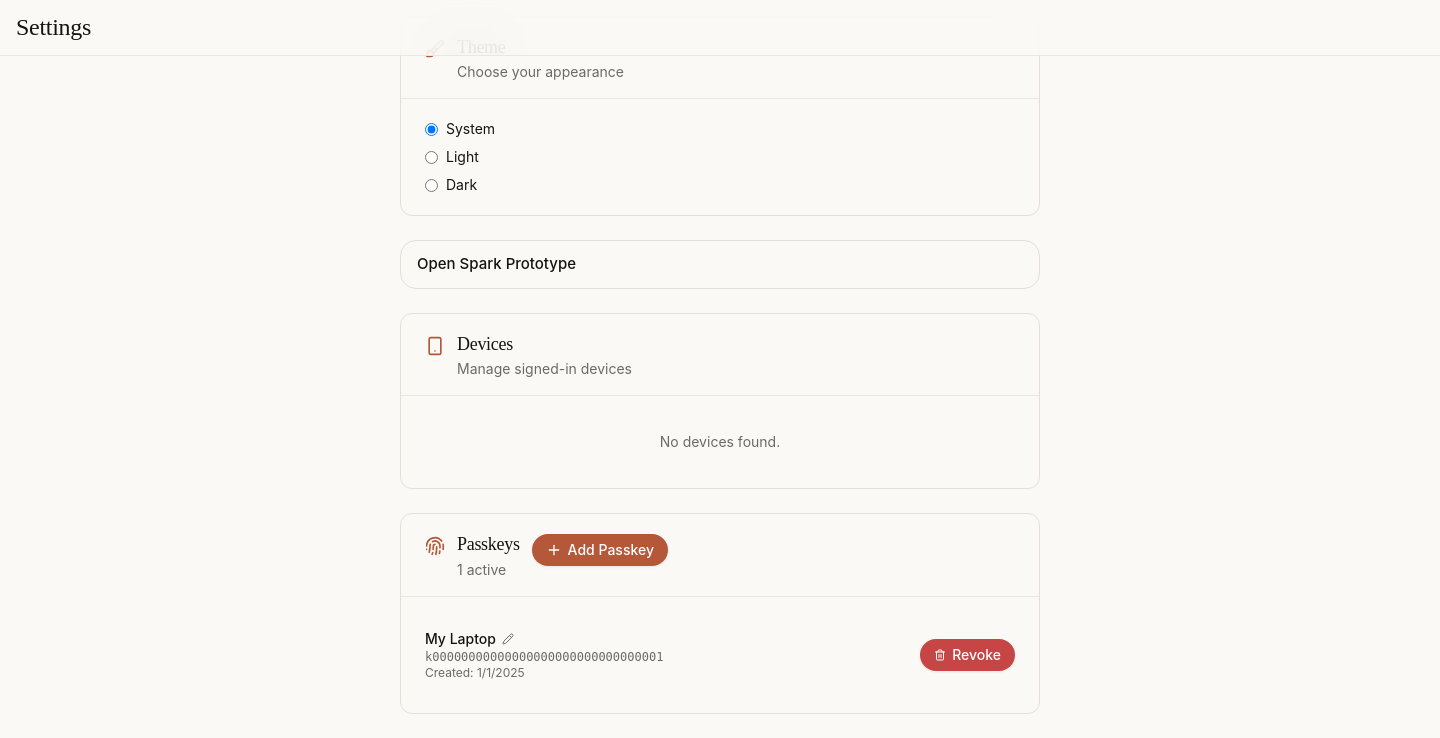
Test: Settings – passkey rename › shows API error on failed rename
(page scrolled)
Check: the text "My Laptop" is shown, box [425, 629, 496, 649]
Click the button with test id "passkey-edit-btn". click: (508, 639)
box: [500, 631, 516, 647]
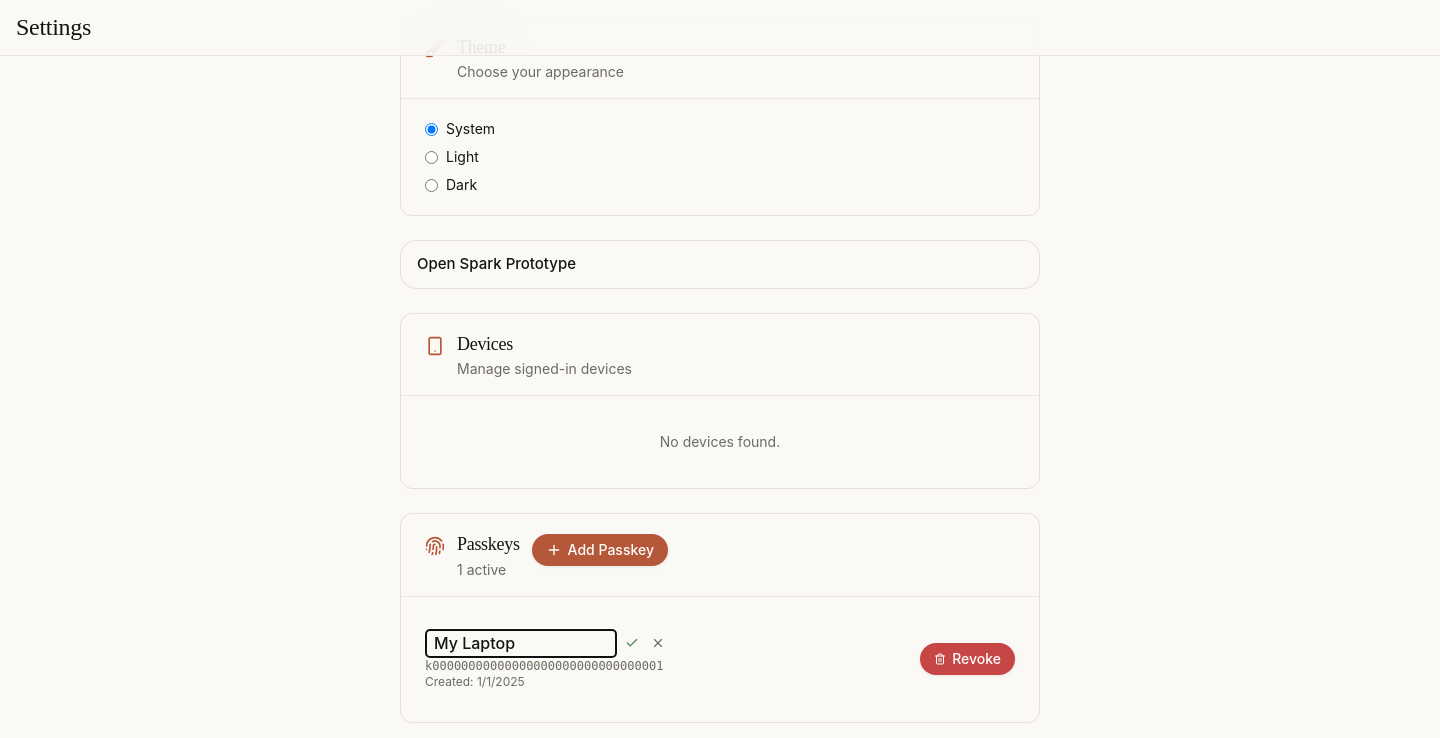
Click the button with test id "passkey-name-save". click: (632, 643)
box: [621, 632, 643, 654]
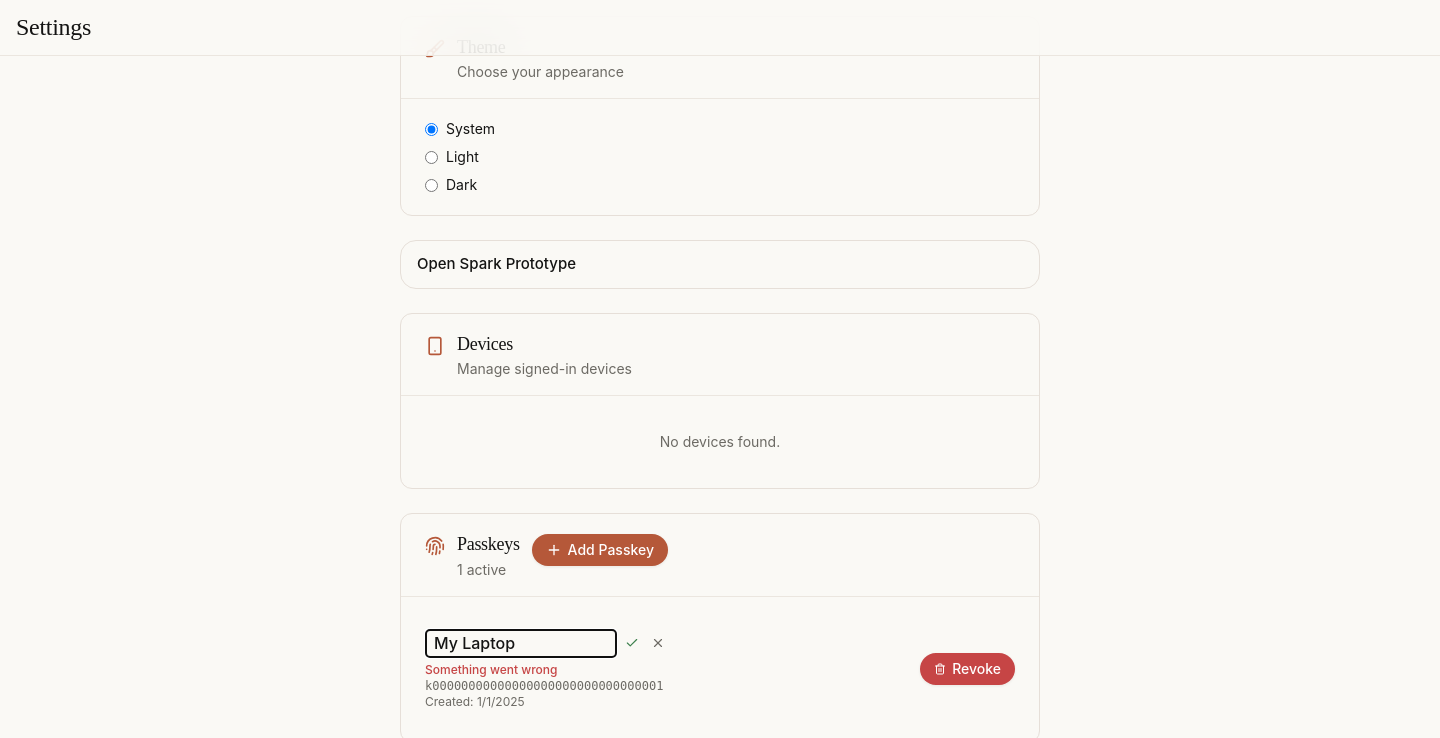
Check: the text with test id "passkey-rename-error" reads "Something went wrong", box [425, 662, 558, 677]
